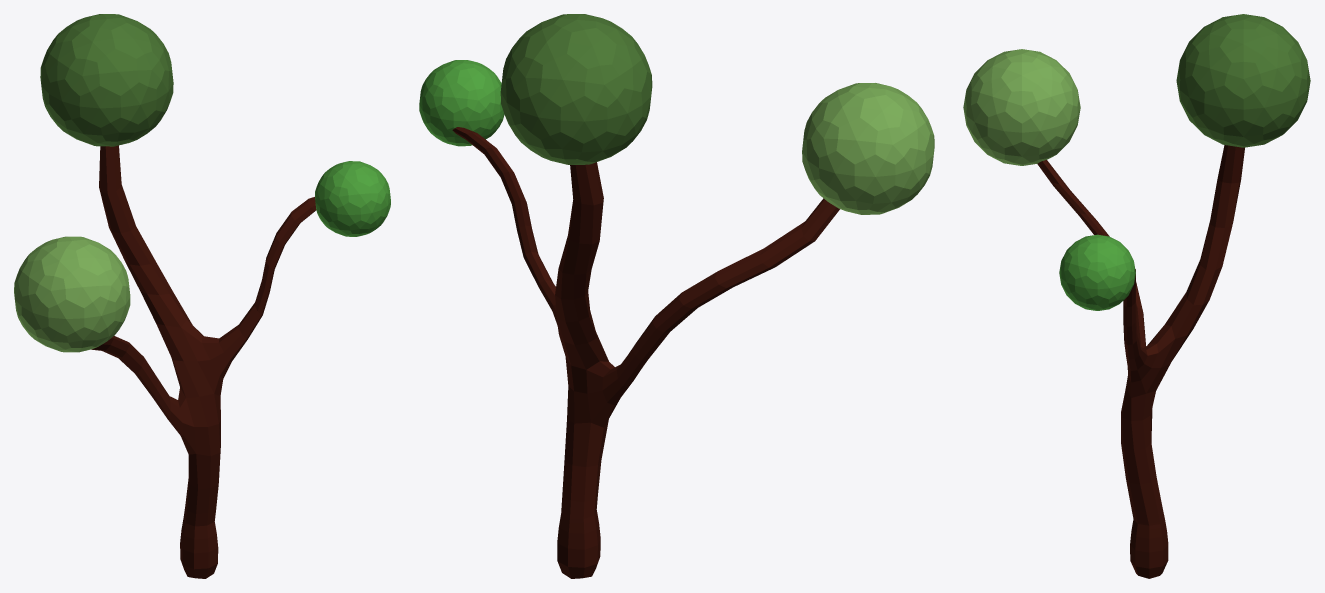
The model's file is tree1.fbx.
The picture shows the model from 3 angles, left to right: view 1: azimuth 30°, elevation 25°; view 2: azimuth 150°, elevation 25°; view 3: azimuth 270°, elevation 25°; orthographic projection. The views are drawn at different scales.
Visible parts, largest first — view 1: Tree1; view 2: Tree1; view 3: Tree1.
Part boxes in pixels (x1,y1,x2,y2): Tree1: (14, 14, 390, 578); Tree1: (419, 14, 934, 578); Tree1: (963, 14, 1310, 578).
Size of the model in its own units: 523 by 666 by 391.
